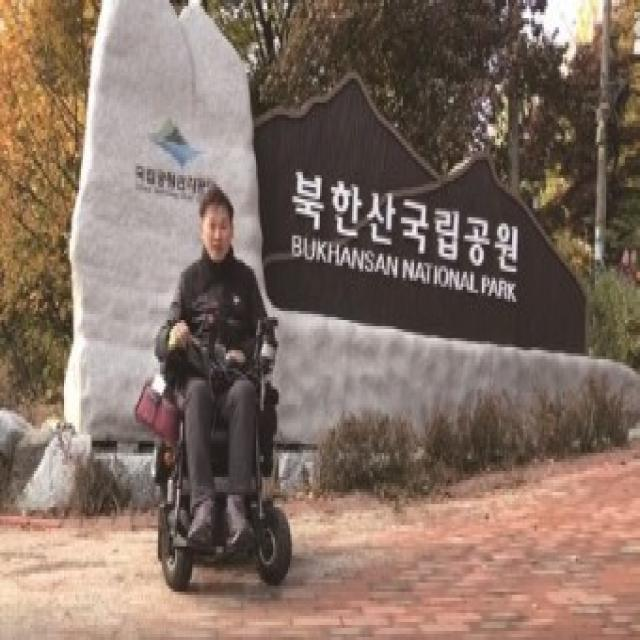wheelchair: (137, 186, 293, 585)
